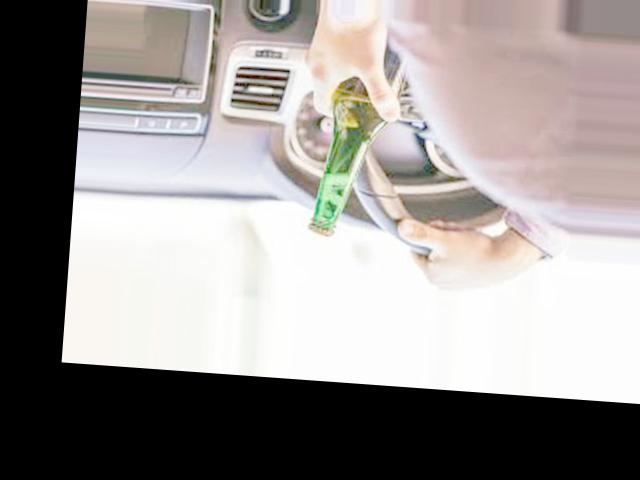beer: (305, 20, 413, 242)
